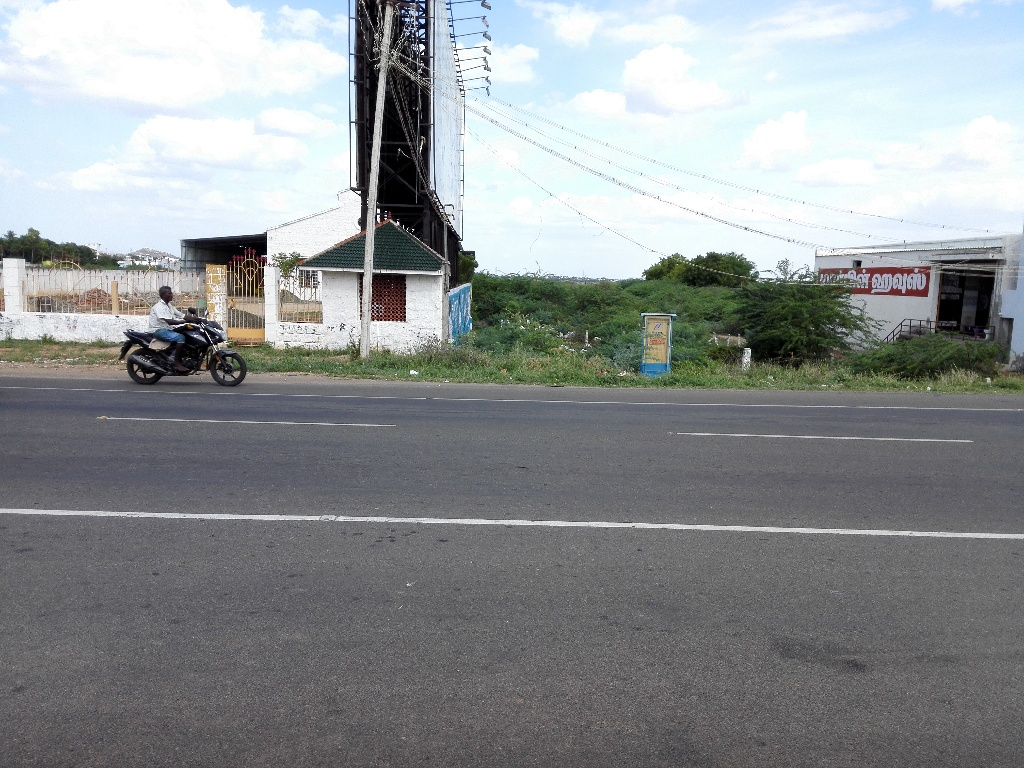biker: (106, 257, 262, 401)
nohelmet: (155, 276, 183, 317)
